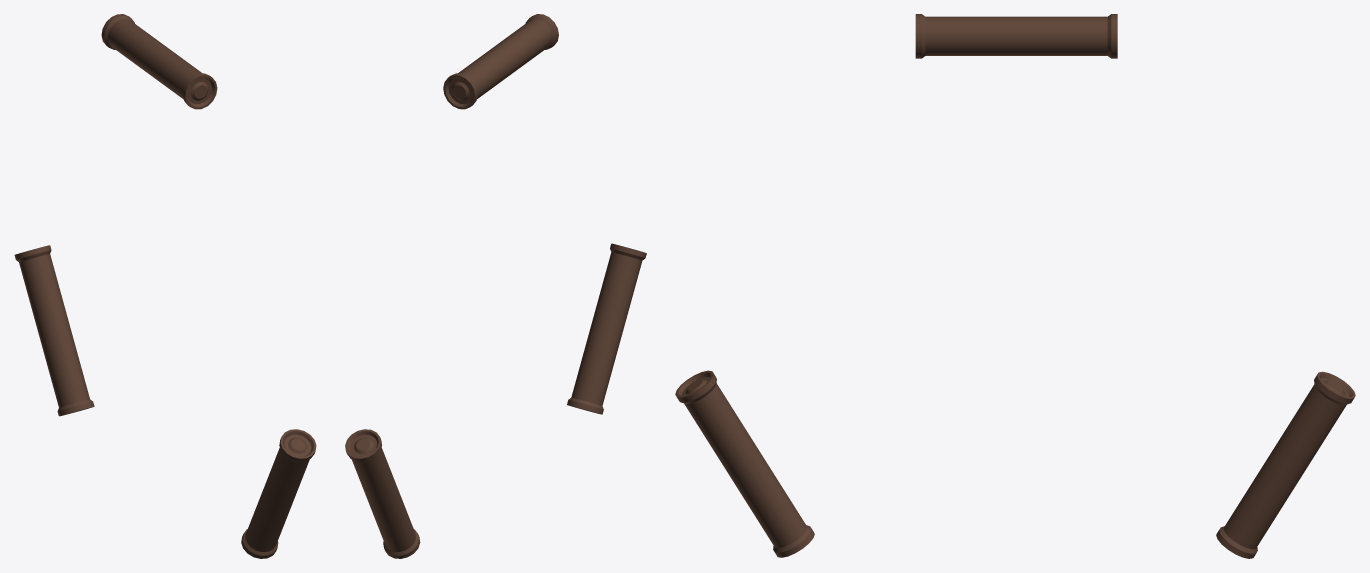
File: hookgunRedux2.fbx
The picture shows the model from 3 angles, left to right: view 1: azimuth 30°, elevation 25°; view 2: azimuth 150°, elevation 25°; view 3: azimuth 270°, elevation 25°; orthographic projection. The views are drawn at different scales.
Visible parts, largest first — view 1: Cylinder.046_metal cooper dark_0; view 2: Cylinder.046_metal cooper dark_0; view 3: Cylinder.046_metal cooper dark_0.
Part boxes in pixels (<box>): Cylinder.046_metal cooper dark_0: <box>14,14,316,558</box>; Cylinder.046_metal cooper dark_0: <box>345,14,646,558</box>; Cylinder.046_metal cooper dark_0: <box>675,14,1355,558</box>.
Bounding box in the file's own units: 63.92 × 674 × 778.
